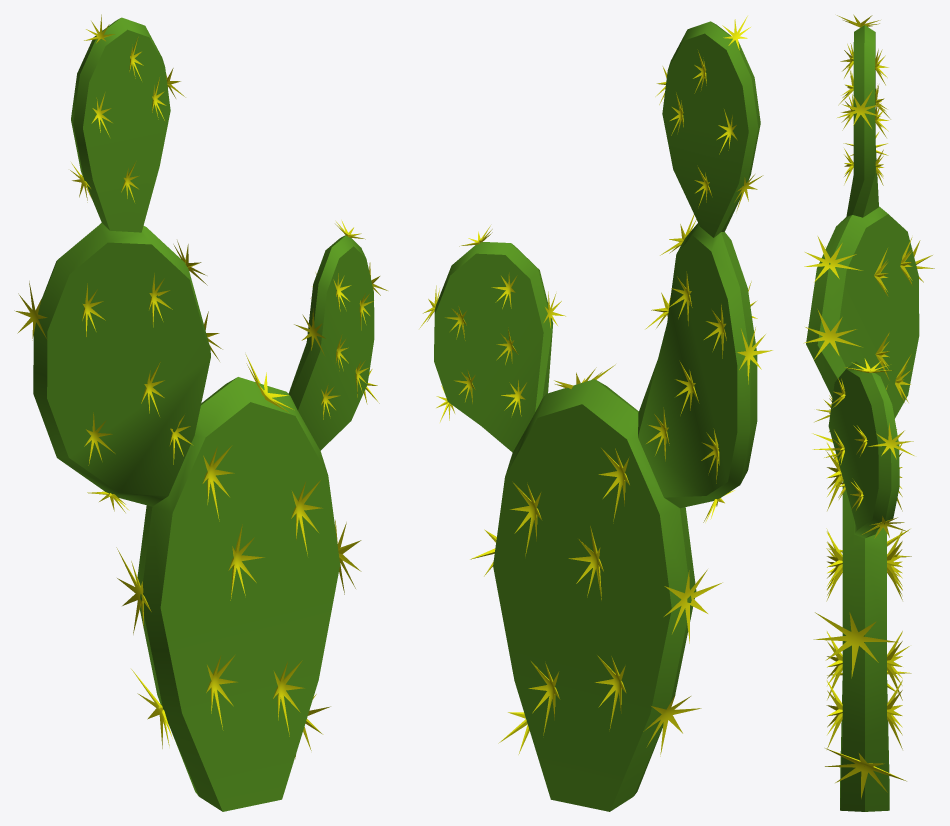
File: plant2.glb
3 views of the same model, side by side, from view 1: azimuth 30°, elevation 25°; view 2: azimuth 150°, elevation 25°; view 3: azimuth 270°, elevation 25° (orthographic). The views are drawn at different scales.
Visible parts, largest first — view 1: Cactus_01; view 2: Cactus_01; view 3: Cactus_01.
Part boxes in pixels (x1,y1,x2,y2): Cactus_01: (14,14,387,811); Cactus_01: (419,16,772,811); Cactus_01: (803,14,934,811).
Size of the model in its own units: 5.33 by 12.14 by 2.02.
Materials: 1 (1 with a texture image).
